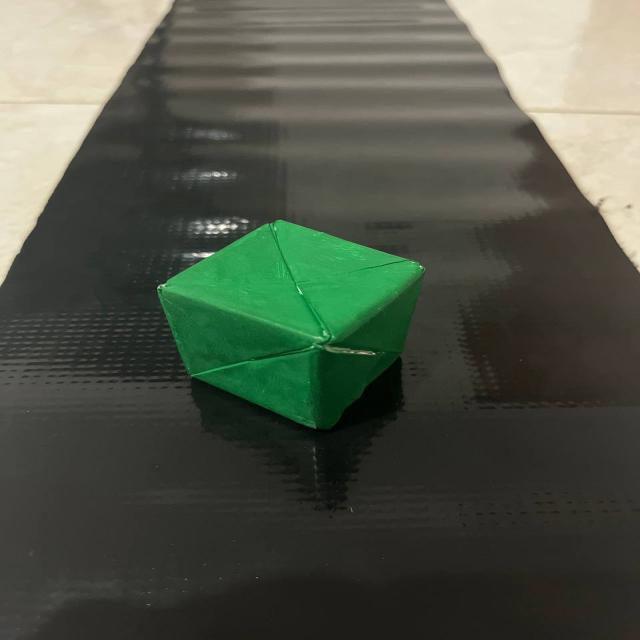Verde: (138, 203, 444, 446)
